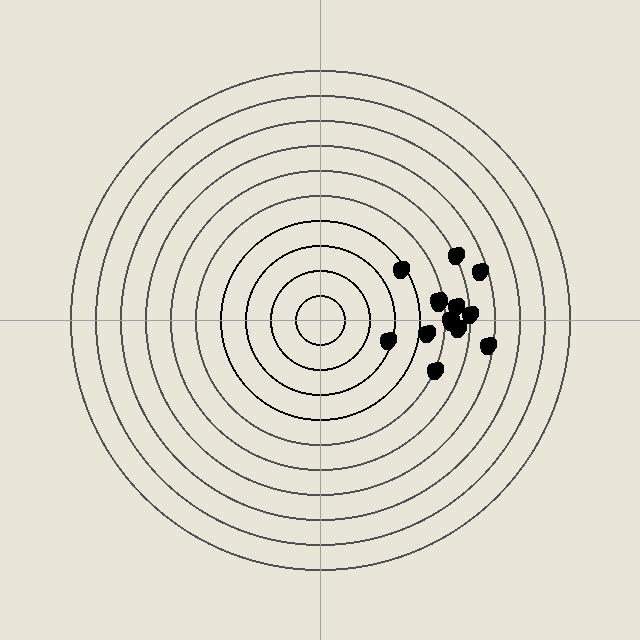good_group: (424, 360, 444, 380), (427, 290, 447, 310), (459, 304, 479, 324), (377, 330, 397, 350), (428, 292, 448, 312), (416, 323, 436, 343), (445, 245, 465, 265), (469, 261, 489, 281), (440, 311, 460, 331), (390, 259, 410, 279), (445, 296, 465, 316), (439, 309, 459, 329), (477, 335, 497, 355), (447, 318, 467, 338)
